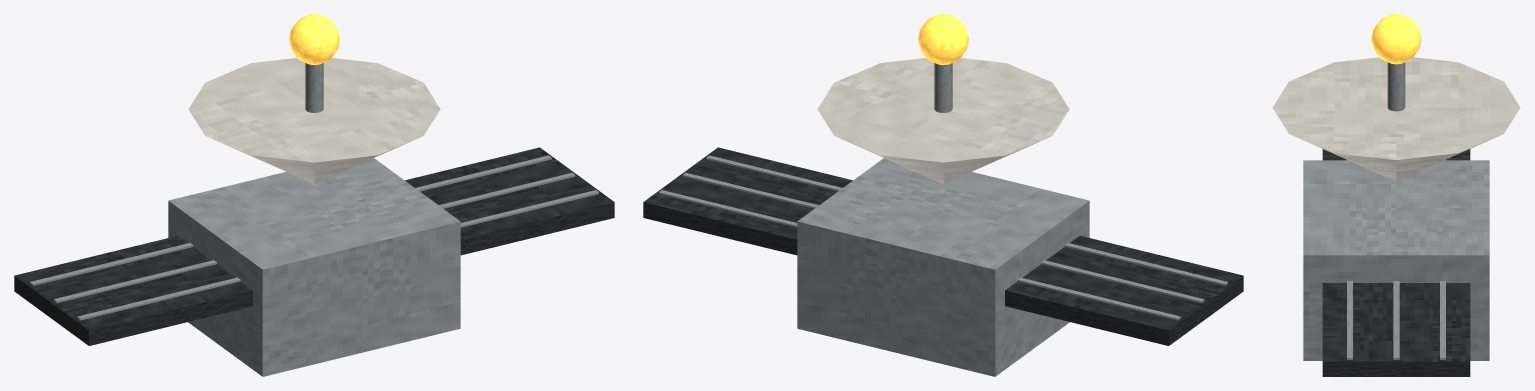
File: vael-signal-probe.glb
The picture shows the model from 3 angles, left to right: view 1: azimuth 30°, elevation 25°; view 2: azimuth 150°, elevation 25°; view 3: azimuth 270°, elevation 25°; orthographic projection.
Visible parts, largest first — view 1: probe bus, solar cells (×2), dish, solar cell trace (×6), Teo signal, feed horn; view 2: probe bus, solar cells (×2), dish, solar cell trace (×6), Teo signal, feed horn; view 3: probe bus, dish, solar cells (×2), Teo signal, solar cell trace (×3), feed horn.
Part boxes in pixels (bbox=[...]): probe bus: bbox=[168, 158, 460, 376]; solar cells (×2): bbox=[14, 147, 614, 345]; dish: bbox=[188, 58, 440, 183]; solar cell trace (×6): bbox=[30, 155, 598, 320]; Teo signal: bbox=[289, 14, 339, 64]; feed horn: bbox=[305, 63, 323, 112]; probe bus: bbox=[797, 158, 1089, 376]; solar cells (×2): bbox=[643, 147, 1243, 345]; dish: bbox=[817, 58, 1069, 183]; solar cell trace (×6): bbox=[659, 155, 1227, 320]; Teo signal: bbox=[918, 14, 968, 64]; feed horn: bbox=[934, 63, 952, 112]; probe bus: bbox=[1303, 160, 1489, 360]; dish: bbox=[1272, 57, 1520, 181]; solar cells (×2): bbox=[1322, 149, 1470, 376]; Teo signal: bbox=[1371, 14, 1421, 64]; solar cell trace (×3): bbox=[1347, 281, 1445, 359]; feed horn: bbox=[1387, 62, 1405, 111].
Bounding box in the file's own units: 1.54 × 0.845 × 0.64.
4 materials, 4 textured.
